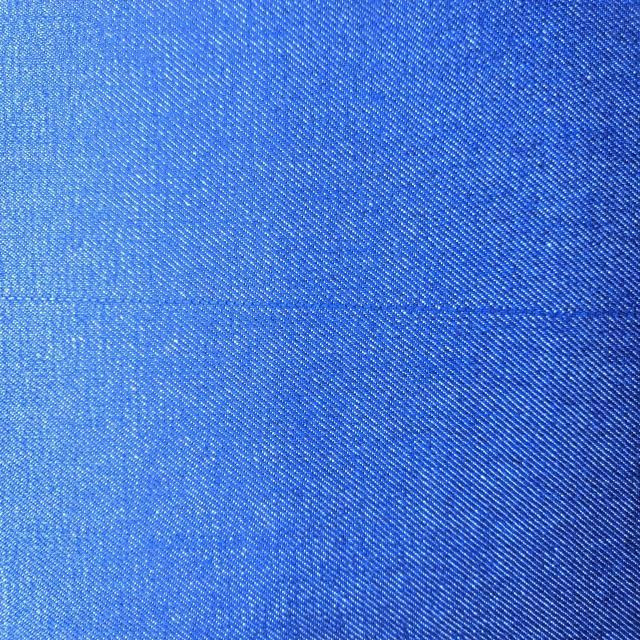Line: (2, 292, 640, 322)
